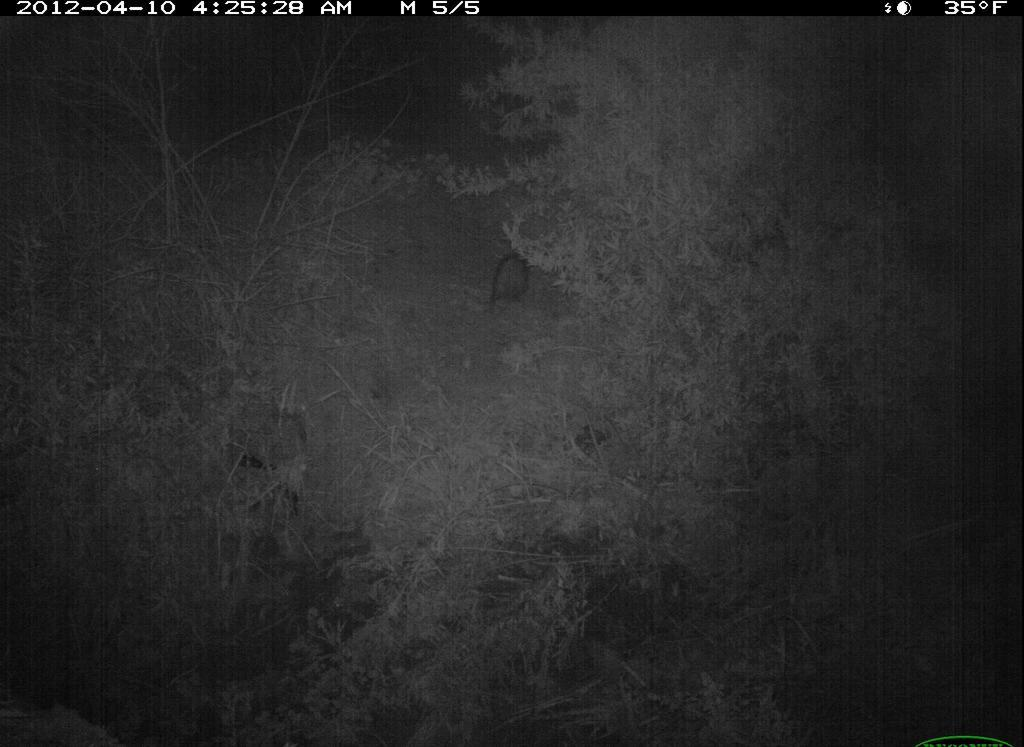opossum: (470, 248, 541, 317)
